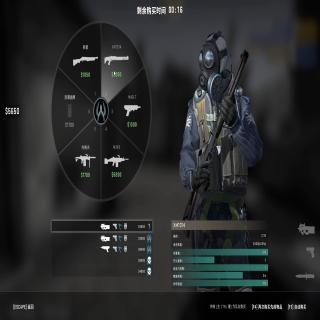CT-Body: (178, 29, 262, 220)
CT-Head: (199, 30, 228, 91)
